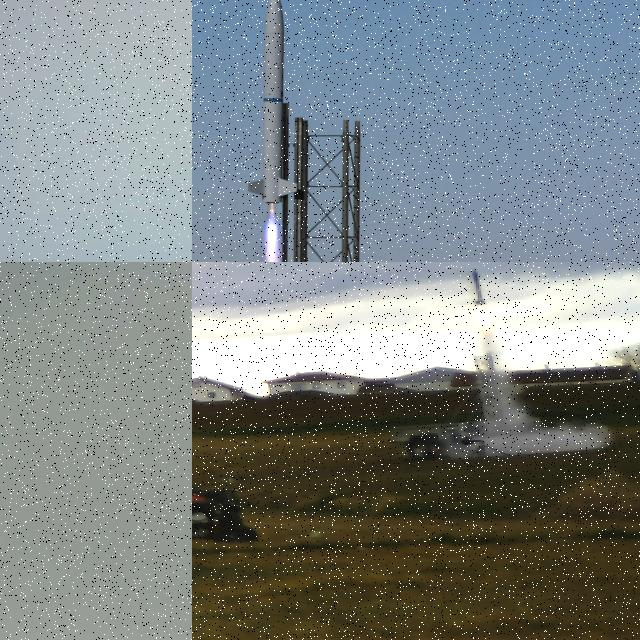Rocket: (245, 0, 299, 205), (470, 269, 489, 305)
